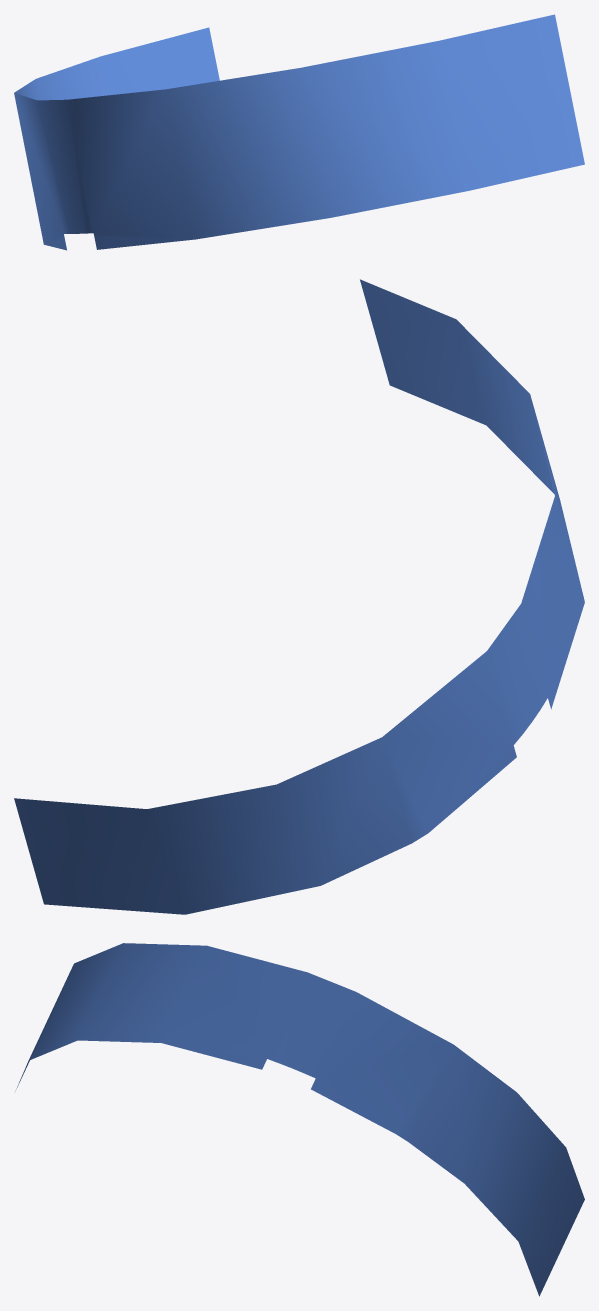
Rendered from original-11.obj.
The picture shows the model from 3 angles, top to bottom: view 1: azimuth 30°, elevation 25°; view 2: azimuth 150°, elevation 25°; view 3: azimuth 270°, elevation 25°; orthographic projection. The views are drawn at different scales.
Parts seen in each view (by area): view 1: Group11/mesh11/mesh11-geometry#mesh11-geometry; view 2: Group11/mesh11/mesh11-geometry#mesh11-geometry; view 3: Group11/mesh11/mesh11-geometry#mesh11-geometry.
Part boxes in pixels (x1,y1,x2,y2): Group11/mesh11/mesh11-geometry#mesh11-geometry: (14, 14, 584, 250); Group11/mesh11/mesh11-geometry#mesh11-geometry: (14, 279, 584, 914); Group11/mesh11/mesh11-geometry#mesh11-geometry: (15, 943, 584, 1296).
Bounding box in the file's own units: 0.0569 × 0.0659 × 0.1139.
